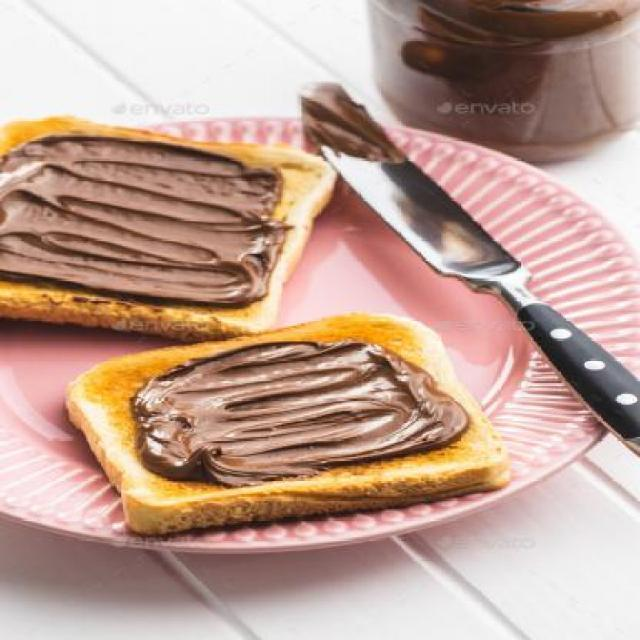Spread: (4, 133, 287, 312), (128, 338, 480, 478)
